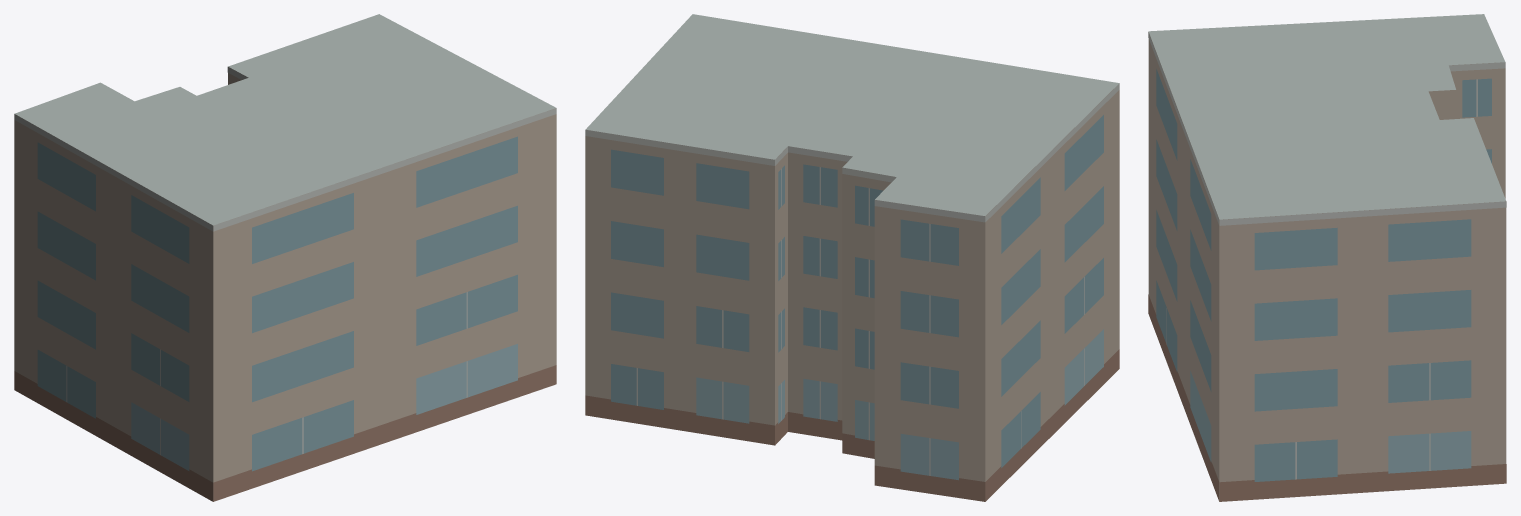
File: survey-upis-32577183.glb
3 renders of one model, left to right at view 1: azimuth 30°, elevation 25°; view 2: azimuth 150°, elevation 25°; view 3: azimuth 270°, elevation 25°, orthographic. The views are drawn at different scales.
Visible parts, largest first — view 1: survey-upis-32577183.tmp; view 2: survey-upis-32577183.tmp; view 3: survey-upis-32577183.tmp.
Part boxes in pixels (x1,y1,x2,y2): survey-upis-32577183.tmp: (14, 14, 556, 501); survey-upis-32577183.tmp: (585, 14, 1119, 501); survey-upis-32577183.tmp: (1148, 14, 1506, 501).
Bounding box in the file's own units: 17.28 × 11.05 × 12.72.
